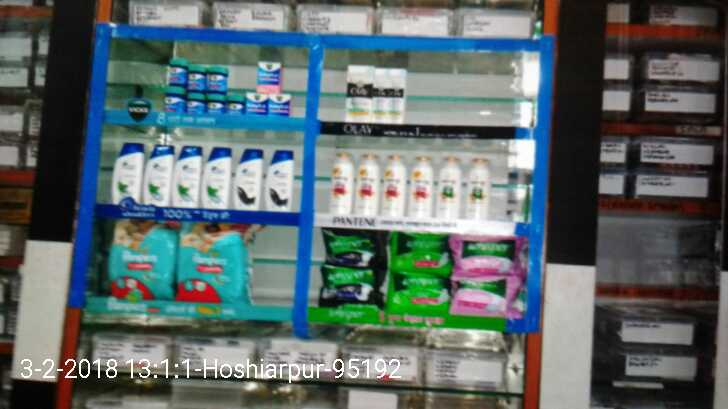vicks: (158, 55, 292, 123)
